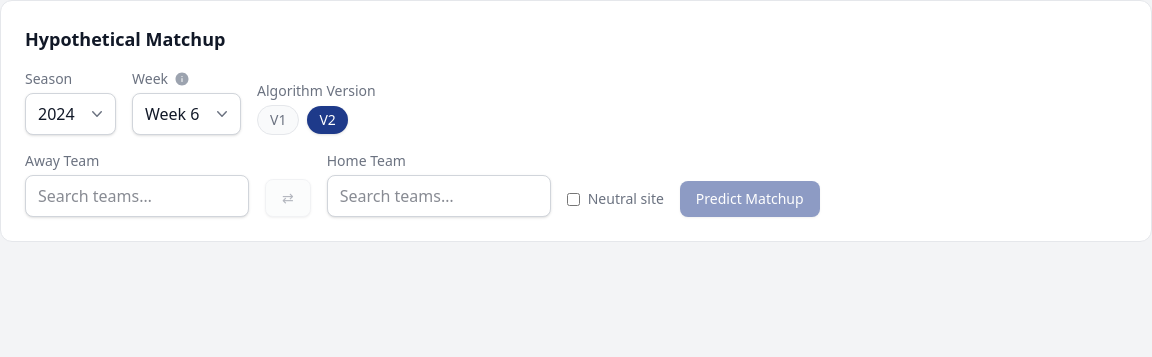
it: ExperimentalMatchupPanel › disables Predict Matchup until both teams are picked
Expected: the button "Predict Matchup" is disabled, [680,181,820,217]
Click the dropdown labelled "Away Team". click: point(137, 196)
box: [25,175,249,217]
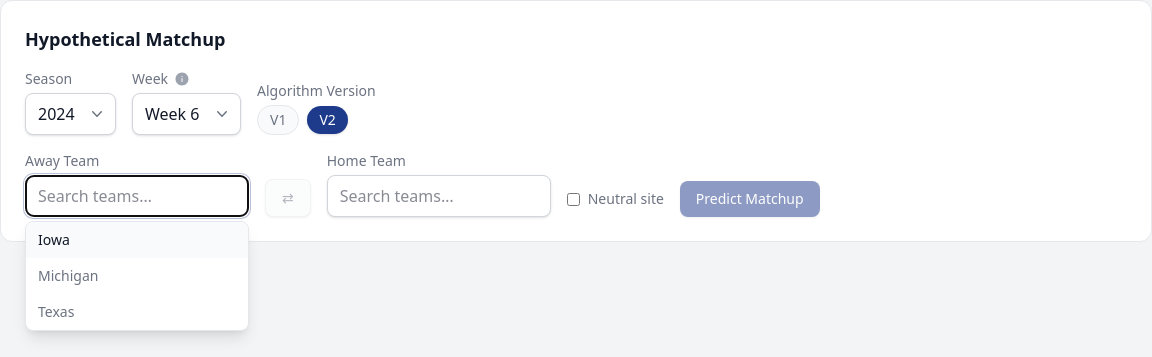
Click the option "Texas". click: point(56, 312)
box: [38,302,74,321]
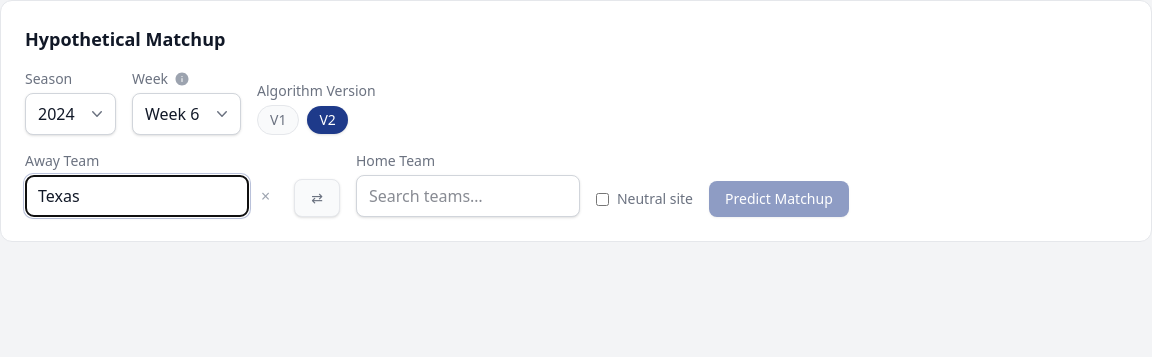
Expected: the button "Predict Matchup" is disabled, [709,181,849,217]
Click the dropdown labelled "Home Team". click: point(468, 196)
box: [356,175,580,217]
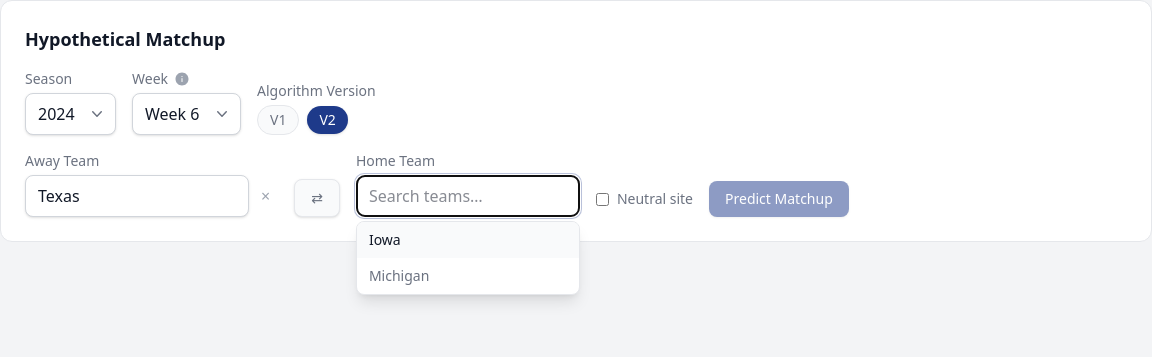
Click the option "Iowa". click: point(468, 240)
box: [357,222,579,258]
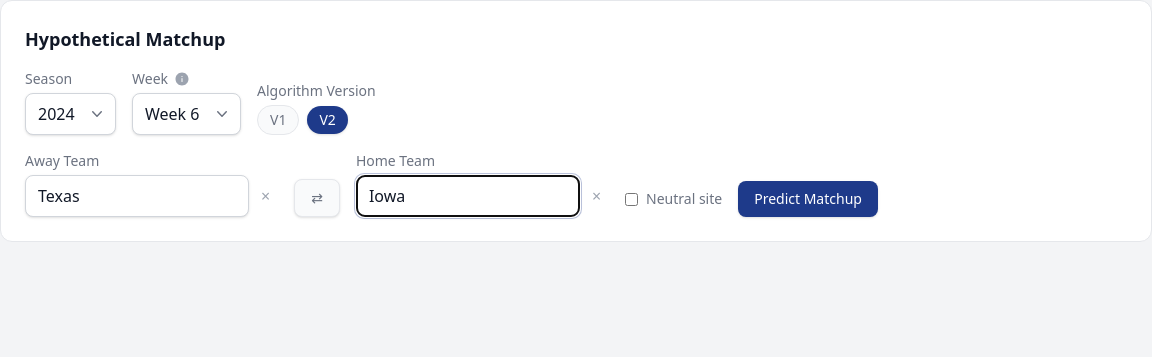
Now the button "Predict Matchup" is enabled, box [738,181,878,217]
